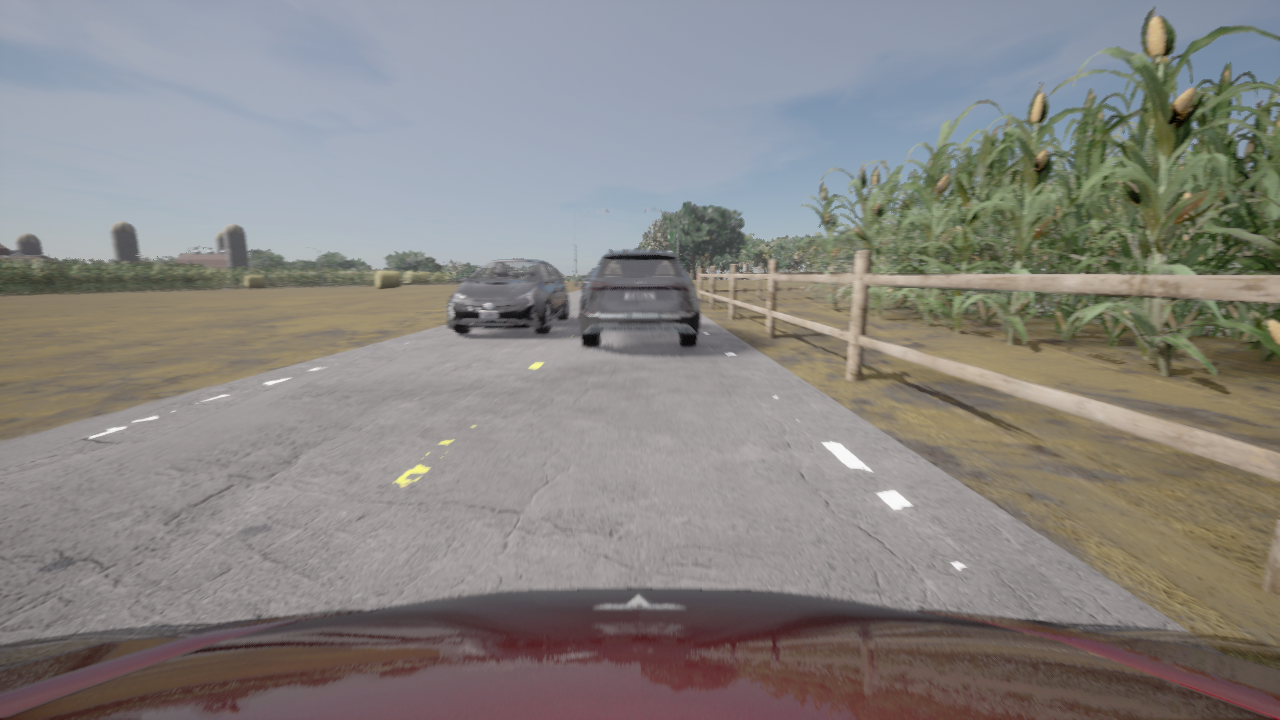cyclist: (0, 588, 1279, 719), (580, 247, 699, 347), (447, 259, 568, 333), (582, 269, 595, 292)
